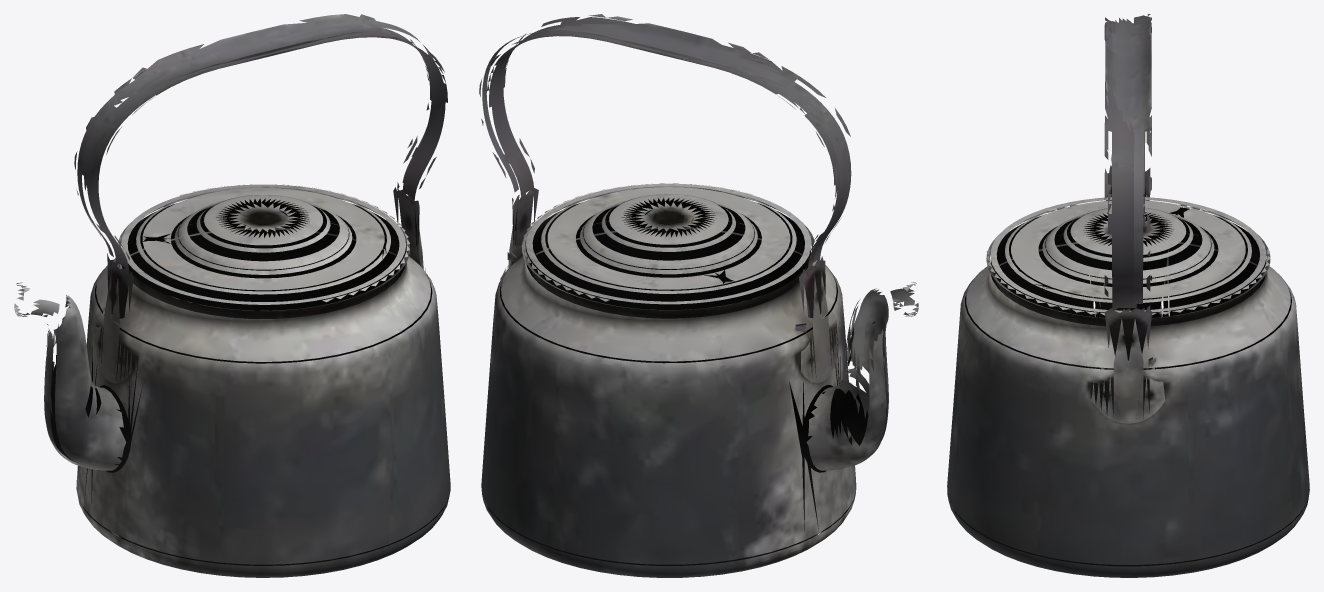
The model's file is coci_teapot_old_2_100517.glb.
The picture shows the model from 3 angles, left to right: view 1: azimuth 30°, elevation 25°; view 2: azimuth 150°, elevation 25°; view 3: azimuth 270°, elevation 25°; orthographic projection. The views are drawn at different scales.
Parts seen in each view (by area): view 1: Object002_Object002_mtl_0; view 2: Object002_Object002_mtl_0; view 3: Object002_Object002_mtl_0.
Part boxes in pixels (x1,y1,x2,y2): Object002_Object002_mtl_0: (14,14,450,577); Object002_Object002_mtl_0: (479,14,918,577); Object002_Object002_mtl_0: (947,14,1309,577).
Size of the model in its own units: 0.191 by 0.1999 by 0.1458.
1 material, 1 textured.
